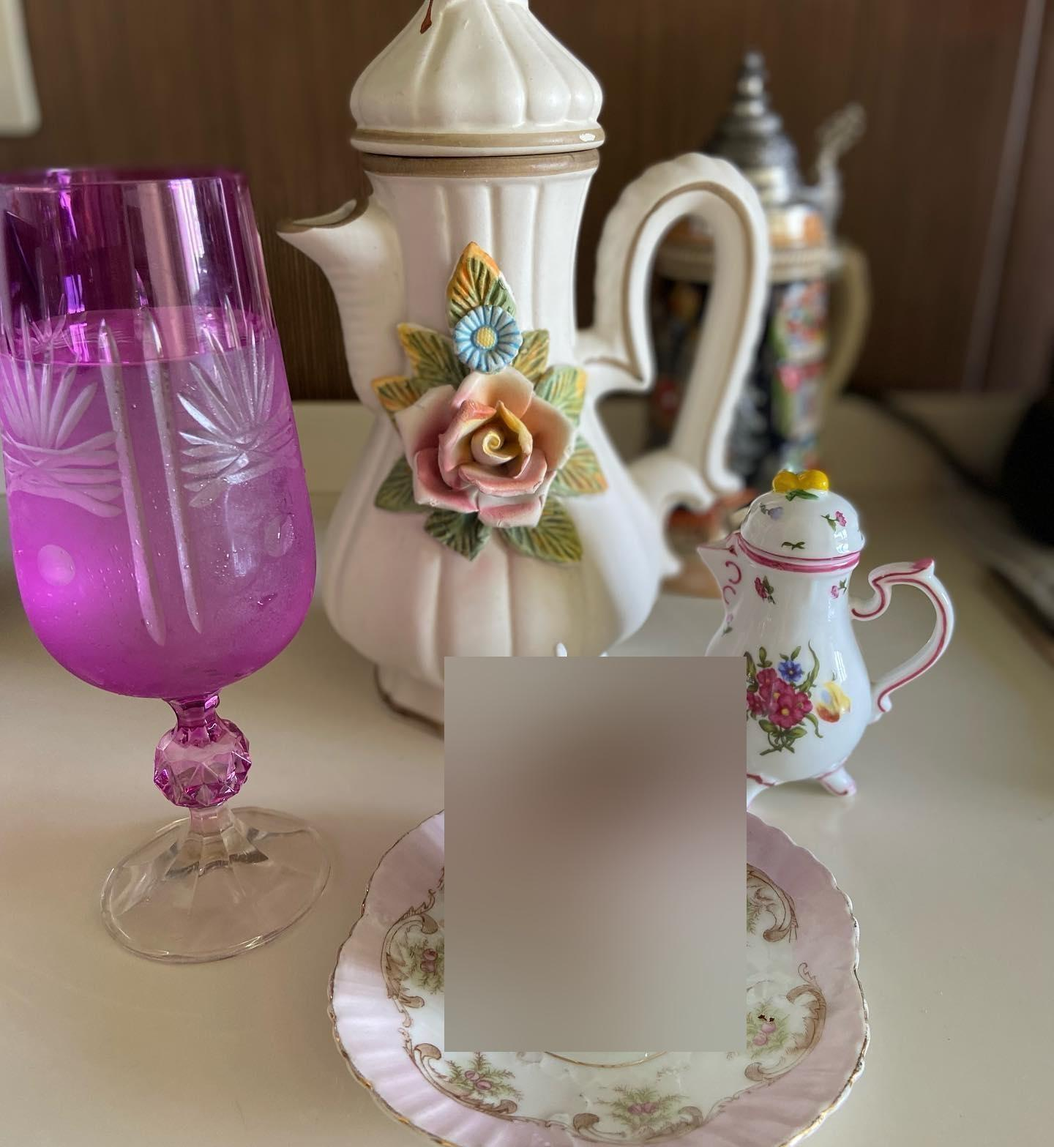glass-wine: (0, 159, 343, 980)
